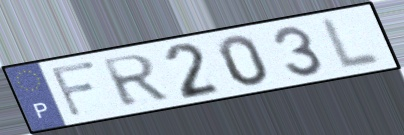0: (217, 32, 272, 89)
2: (163, 42, 224, 102)
3: (270, 24, 327, 78)
F: (47, 58, 99, 120)
L: (319, 15, 385, 73)
R: (98, 52, 173, 110)
